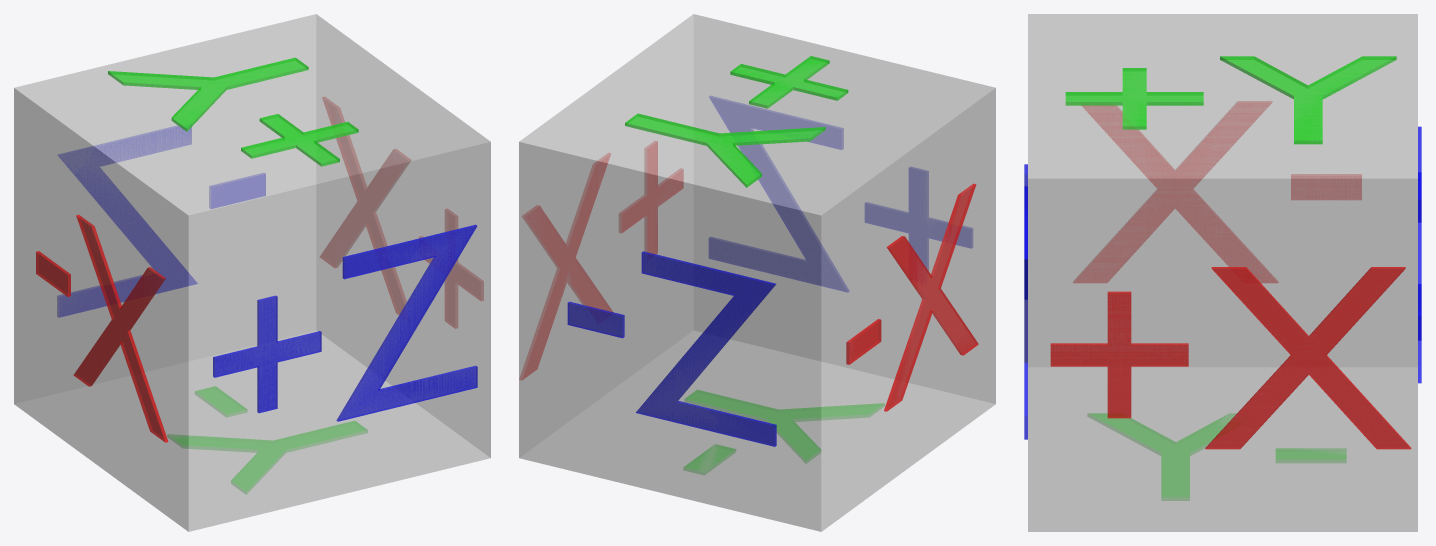
File: CubeTransparent.glb
3 renders of one model, left to right at view 1: azimuth 30°, elevation 25°; view 2: azimuth 150°, elevation 25°; view 3: azimuth 270°, elevation 25°, orthographic. The views are drawn at different scales.
Visible parts, largest first — view 1: Cube, +Z, -Z, -X, +Y, +X, -Y; view 2: Cube, +Z, -Z, +X, -X, +Y, -Y; view 3: Cube, +X, -X, +Y, -Y, +Z, -Z.
Boxes of the visible parts, x1,y1,x2,y2 form: Cube: [14, 14, 490, 531]; +Z: [213, 224, 477, 421]; -Z: [57, 126, 265, 317]; -X: [36, 215, 168, 442]; +Y: [108, 57, 358, 166]; +X: [320, 97, 483, 328]; -Y: [168, 386, 367, 494]; Cube: [519, 14, 995, 531]; +Z: [709, 96, 972, 292]; -Z: [567, 251, 776, 446]; +X: [519, 141, 683, 379]; -X: [846, 183, 978, 411]; +Y: [625, 56, 848, 187]; -Y: [684, 390, 884, 474]; Cube: [1028, 14, 1417, 531]; +X: [1050, 267, 1411, 449]; -X: [1073, 101, 1361, 282]; +Y: [1065, 56, 1396, 144]; -Y: [1088, 413, 1346, 500]; +Z: [1024, 164, 1027, 439]; -Z: [1418, 126, 1421, 383].
Size of the model in its own units: 1.02 by 1.02 by 1.02.
